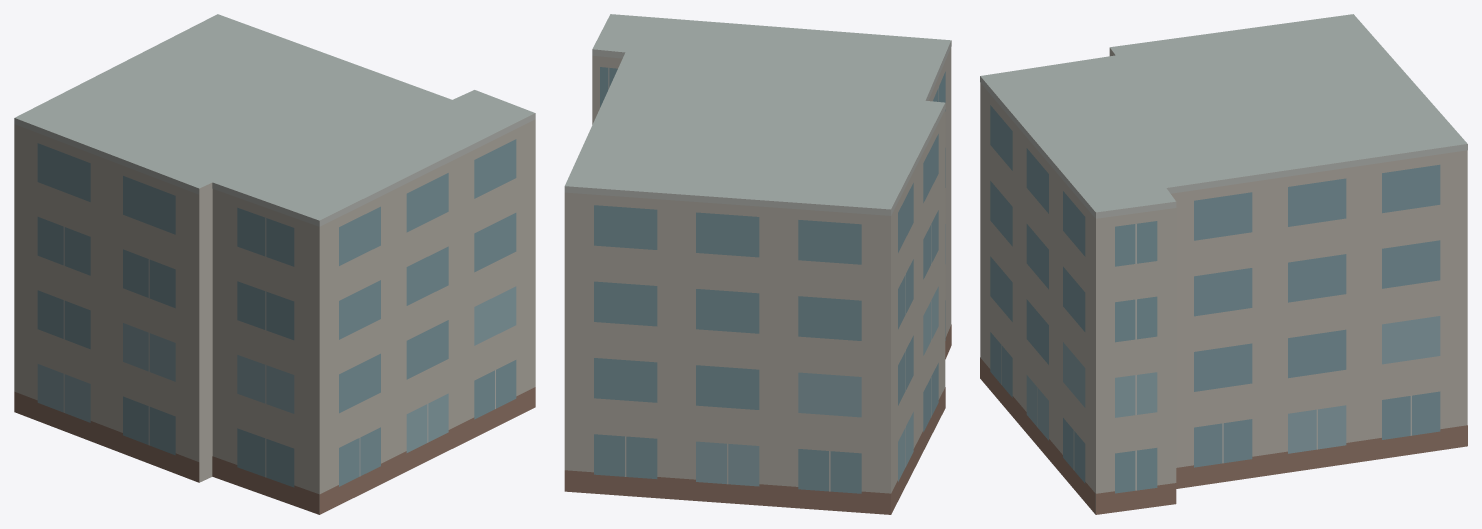
File: survey-upis-32747403.glb
3 renders of one model, left to right at view 1: azimuth 30°, elevation 25°; view 2: azimuth 150°, elevation 25°; view 3: azimuth 270°, elevation 25°, orthographic. The views are drawn at different scales.
Parts seen in each view (by area): view 1: survey-upis-32747403.tmp; view 2: survey-upis-32747403.tmp; view 3: survey-upis-32747403.tmp.
Boxes of the visible parts, x1,y1,x2,y2 form: survey-upis-32747403.tmp: (14, 14, 535, 514); survey-upis-32747403.tmp: (564, 14, 951, 514); survey-upis-32747403.tmp: (980, 14, 1467, 514).
Bounding box in the file's own units: 16.34 × 11.6 × 16.96.
